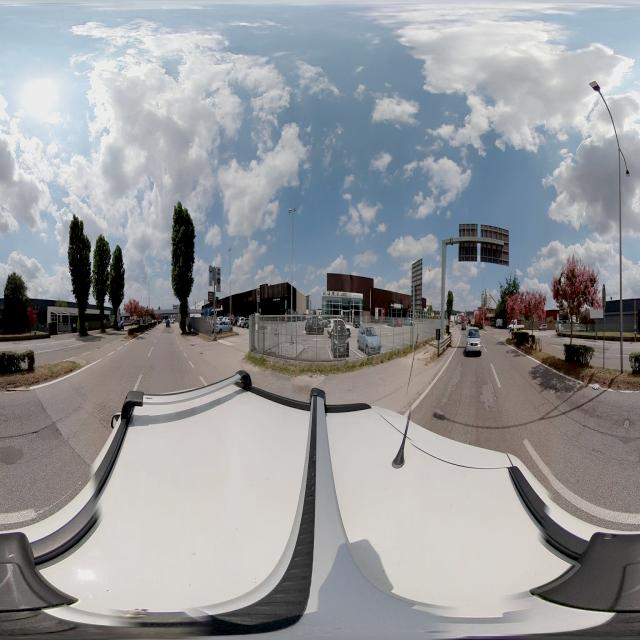car: (358, 324, 382, 352), (464, 327, 482, 357), (212, 314, 232, 334)
